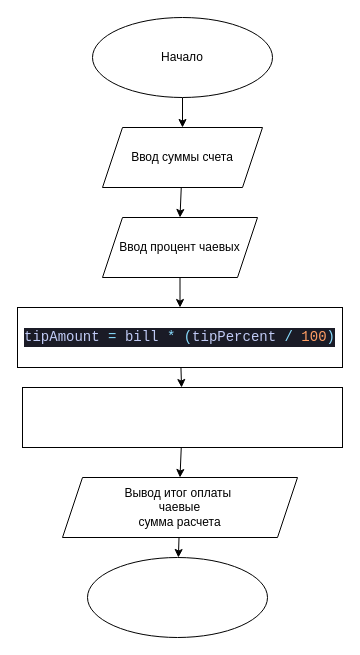
Some shapes in this 360 by 655 pixel diagram are drawn without their labels. Here are the shapes that lost their labels. From the top down, the centre of each, then its label:
point (182, 417): totalAmount = bill * tipAmount
point (177, 597): Конец
